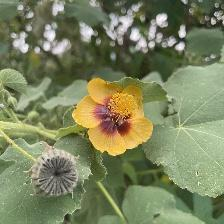indian mallow: (72, 79, 157, 158)
